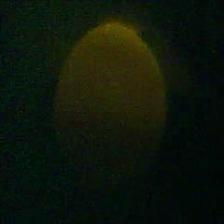fertile: (52, 20, 170, 193)
